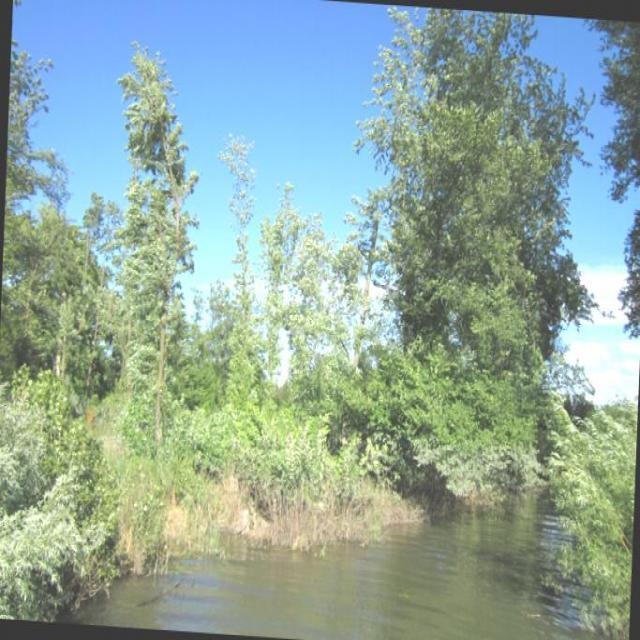flood: (42, 450, 635, 639)
